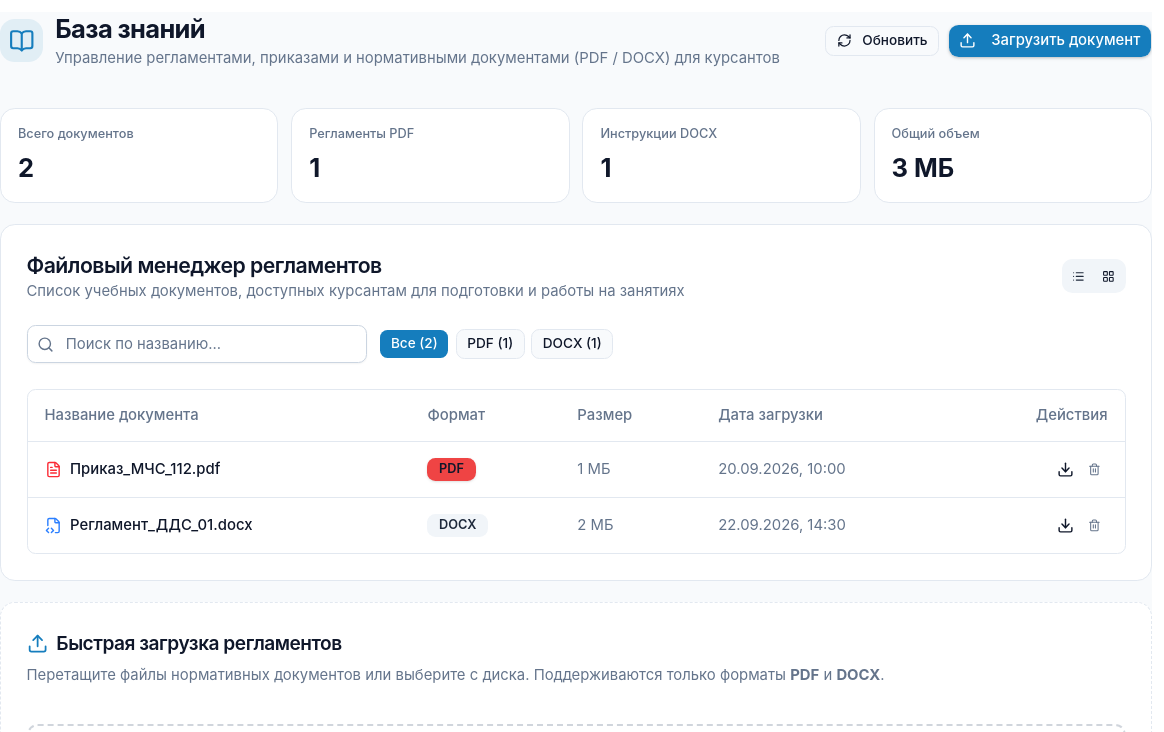
27.6: База знаний › should toggle between table list view and card grid view
Expected: the element with test id "knowledge-table" is shown, [26,389,1126,554]
Click the button named "Вид сеткой". click: point(1109, 276)
box: [1096,264,1121,289]
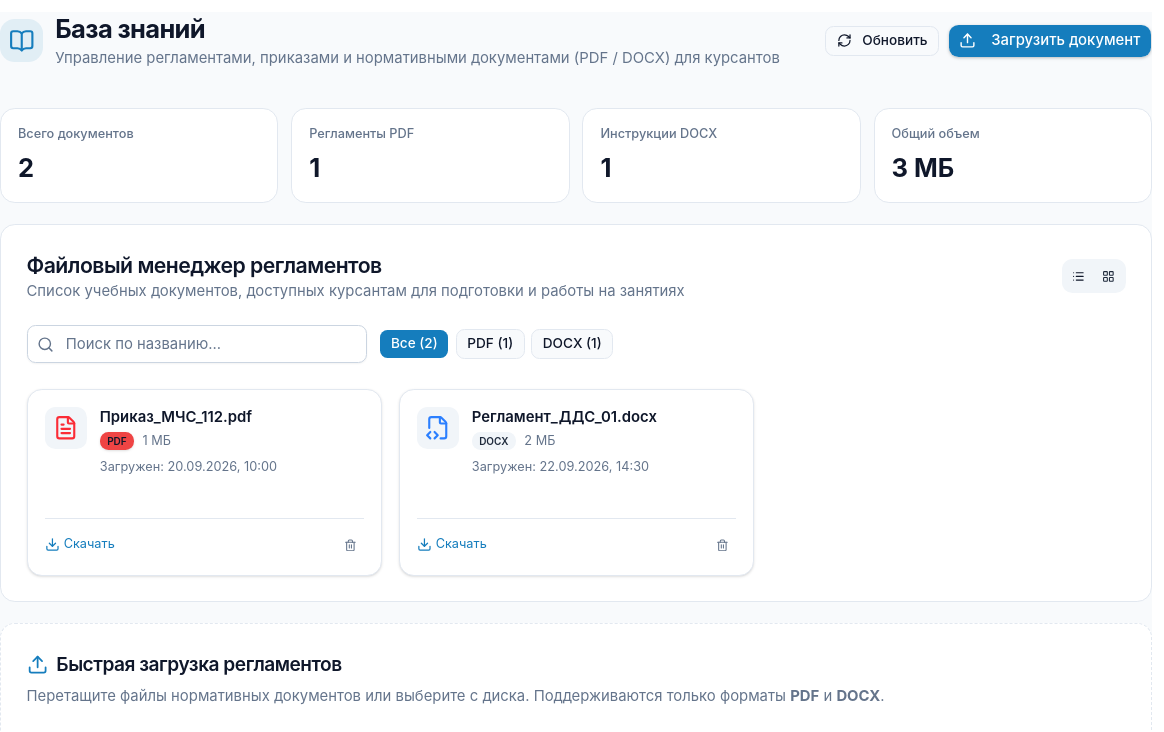
Now the element with test id "knowledge-grid" is shown, box [26,389,754,576]
Click the button named "Вид списком". click: point(1079, 276)
box: [1066,264,1092,289]
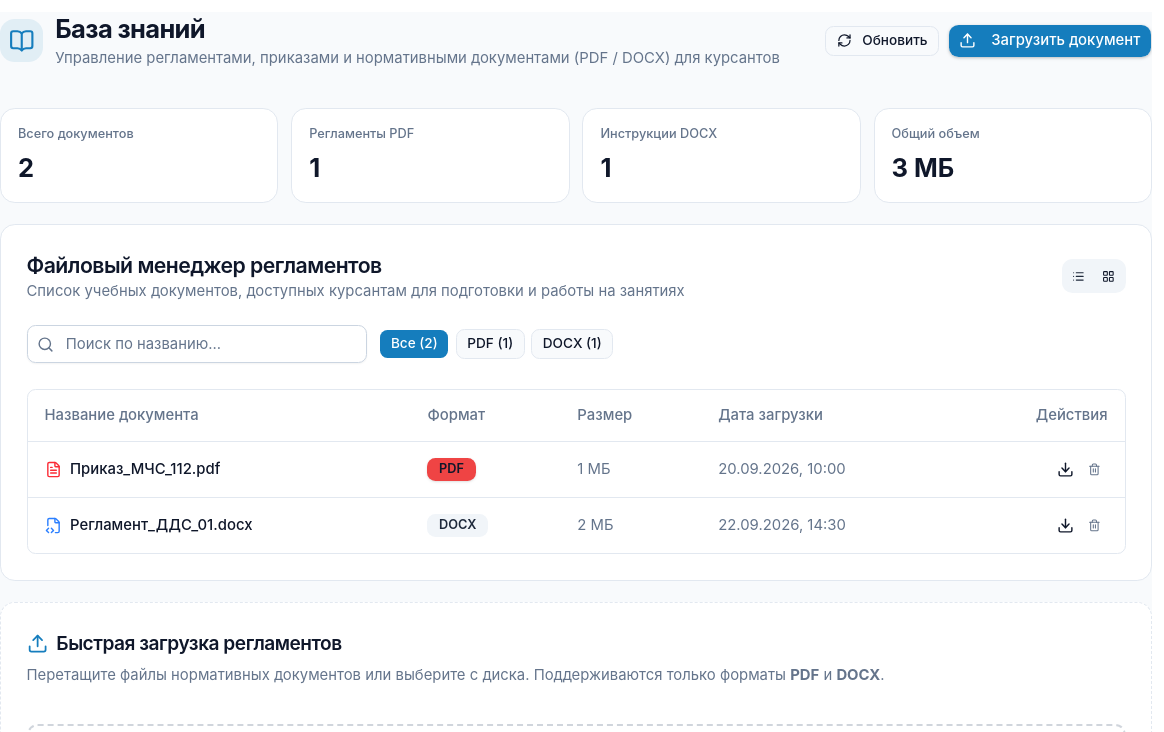
Now the element with test id "knowledge-table" is shown, box [26,389,1126,554]
